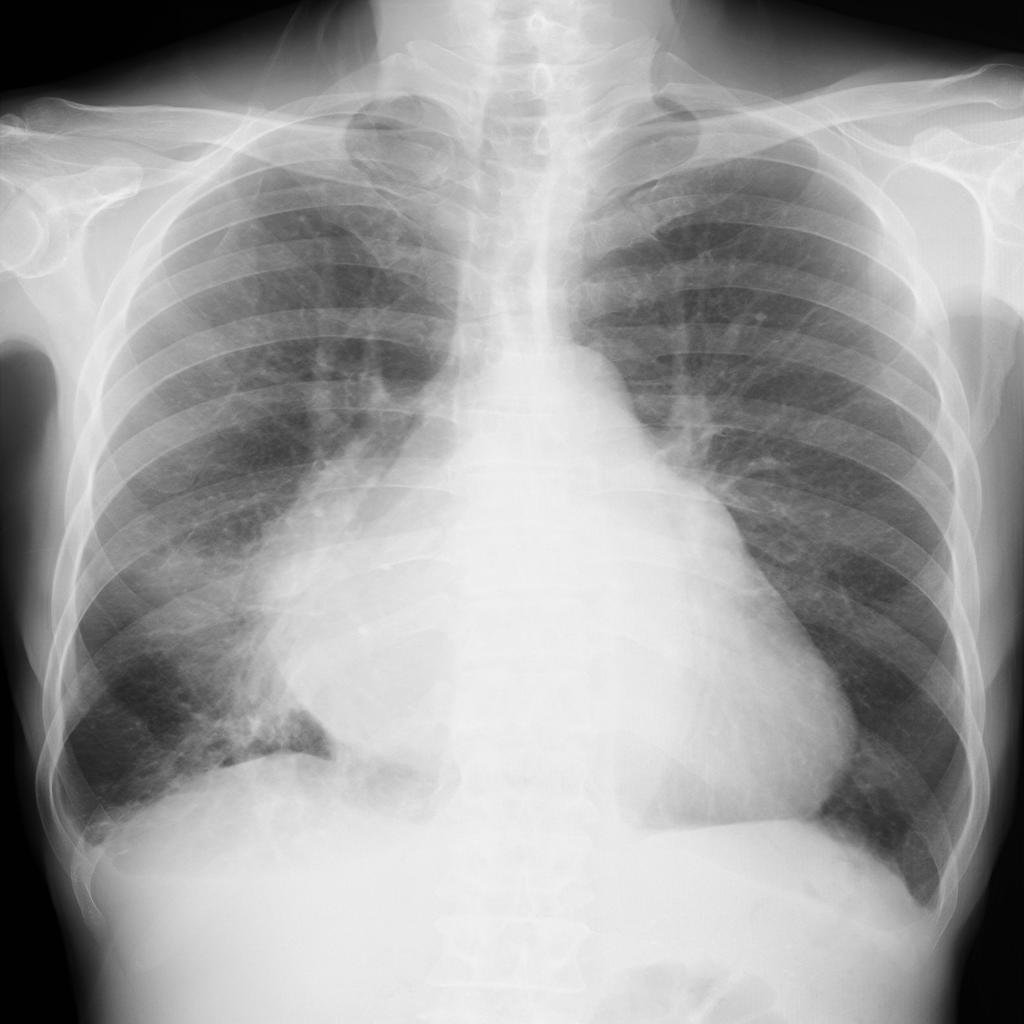Nodule: (267, 536, 440, 762)
